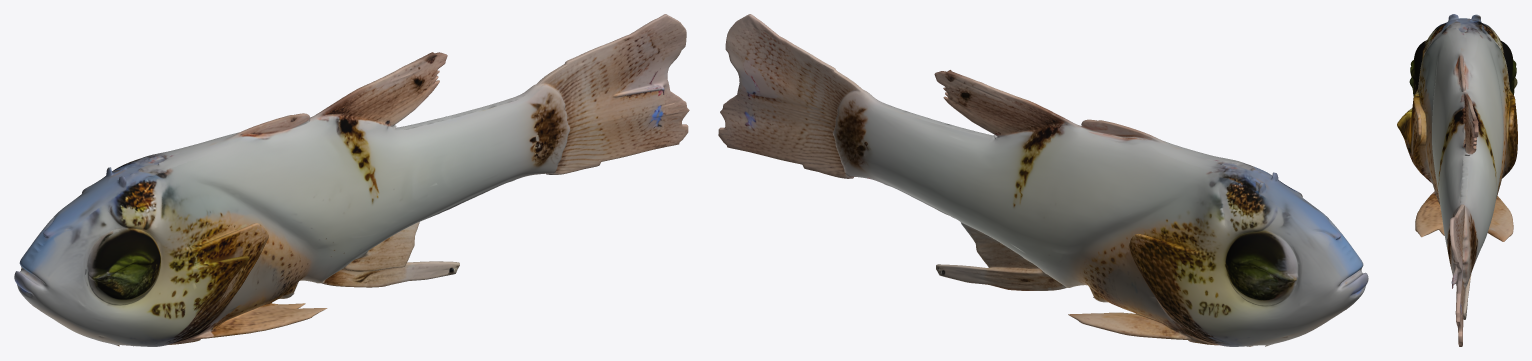
File: pez3-v1.glb
3 renders of one model, left to right at view 1: azimuth 30°, elevation 25°; view 2: azimuth 150°, elevation 25°; view 3: azimuth 270°, elevation 25°, orthographic. The views are drawn at different scales.
Parts seen in each view (by area): view 1: material; view 2: material; view 3: material.
Boxes of the visible parts, x1,y1,x2,y2 form: material: [14, 14, 689, 346]; material: [718, 14, 1368, 346]; material: [1397, 14, 1517, 346].
Size of the model in its own units: 1.19 by 0.3731 by 0.2125.
Materials: 1 (1 with a texture image).
